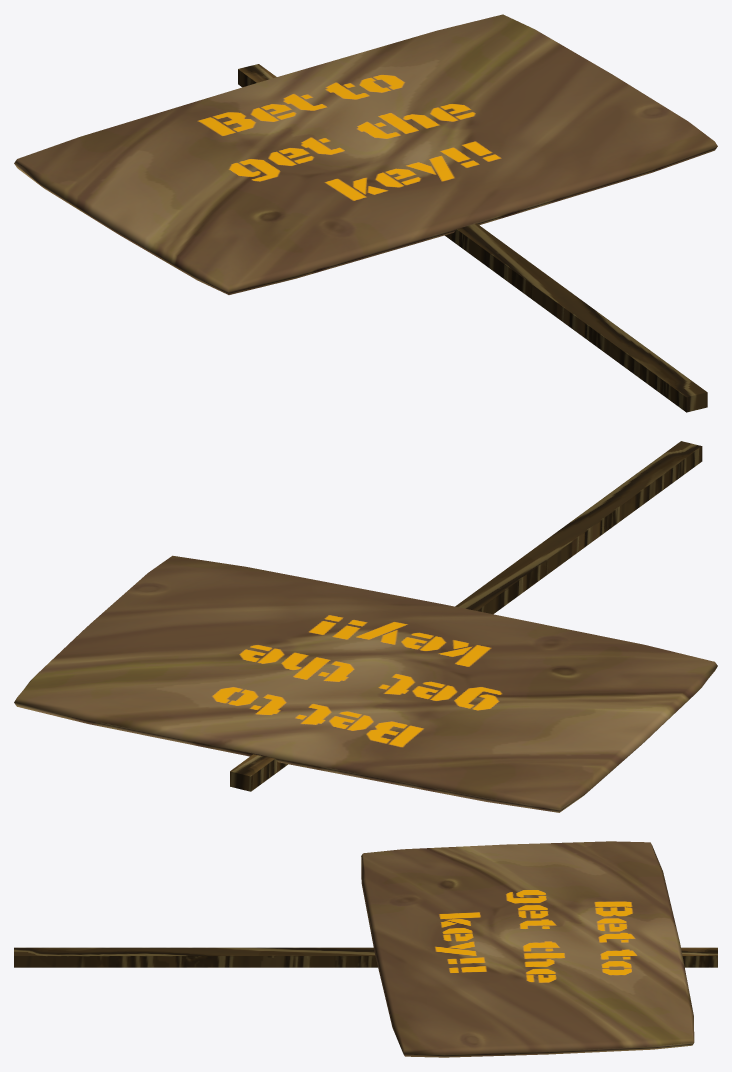
Rendered from Cartel.glb.
3 views of the same model, one above another, from view 1: azimuth 30°, elevation 25°; view 2: azimuth 150°, elevation 25°; view 3: azimuth 270°, elevation 25° (orthographic). The views are drawn at different scales.
Parts seen in each view (by area): view 1: pCube3, pCube2; view 2: pCube3, pCube2; view 3: pCube3, pCube2.
Part boxes in pixels (box(x1,y1,x2,y2)): pCube3: box(14, 14, 717, 294); pCube2: box(238, 64, 707, 412); pCube3: box(14, 555, 717, 812); pCube2: box(230, 441, 702, 791); pCube3: box(361, 841, 694, 1057); pCube2: box(14, 947, 717, 967).
Size of the model in its own units: 0.0958 by 0.00502 by 0.1355.
Materials: 2 (2 with a texture image).
